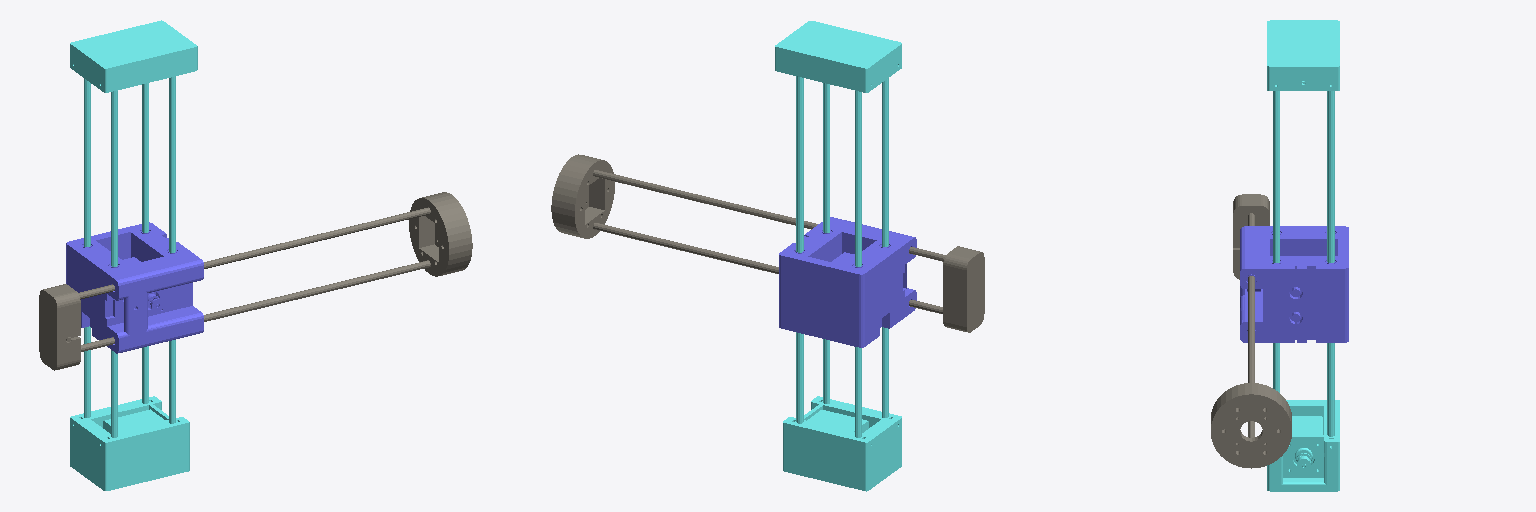
robot.urdf — vertical_cartesian:
<?xml version="1.0" encoding="utf-8"?>
<robot
  name="vertical_cartesian">
  <link
    name="base_link">
    <inertial>
      <origin
        xyz="-0.049116 0.21966 0.033231"
        rpy="0 0 0" />
      <mass
        value="0.79393" />
      <inertia
        ixx="0.0026337"
        ixy="9.5608E-06"
        ixz="-6.8778E-10"
        iyy="0.0011002"
        iyz="-8.2289E-11"
        izz="0.0029366" />
    </inertial>
    <visual>
      <origin
        xyz="0 0 0"
        rpy="0 0 0" />
      <geometry>
        <mesh
          filename="package://vertical_cartesian/meshes/base_link.STL" />
      </geometry>
      <material
        name="">
        <color
          rgba="0.50196 1 1 1" />
      </material>
    </visual>
    <collision>
      <origin
        xyz="0 0 0"
        rpy="0 0 0" />
      <geometry>
        <mesh
          filename="package://vertical_cartesian/meshes/base_link.STL" />
      </geometry>
    </collision>
  </link>
  <link
    name="link1">
    <inertial>
      <origin
        xyz="-0.00031778 0.04532 -0.0030874"
        rpy="0 0 0" />
      <mass
        value="0.82763" />
      <inertia
        ixx="0.0014425"
        ixy="7.8549E-06"
        ixz="2.0529E-05"
        iyy="0.0018363"
        iyz="-1.2126E-06"
        izz="0.0014501" />
    </inertial>
    <visual>
      <origin
        xyz="0 0 0"
        rpy="0 0 0" />
      <geometry>
        <mesh
          filename="package://vertical_cartesian/meshes/link1.STL" />
      </geometry>
      <material
        name="">
        <color
          rgba="0.50196 0.50196 1 1" />
      </material>
    </visual>
    <collision>
      <origin
        xyz="0 0 0"
        rpy="0 0 0" />
      <geometry>
        <mesh
          filename="package://vertical_cartesian/meshes/link1.STL" />
      </geometry>
    </collision>
  </link>
  <joint
    name="joint1"
    type="prismatic">
    <origin
      xyz="-0.049468 -0.043231 0.18035"
      rpy="1.5708 0 0" />
    <parent
      link="base_link" />
    <child
      link="link1" />
    <axis
      xyz="0 1 0" />
    <limit
      lower="-0.1"
      upper="0.21"
      effort="50"
      velocity="2" />
  </joint>
  <link
    name="link2">
    <inertial>
      <origin
        xyz="0.0015684 -0.15332 0.032479"
        rpy="0 0 0" />
      <mass
        value="0.29266" />
      <inertia
        ixx="0.0012177"
        ixy="4.9515E-08"
        ixz="-2.3087E-06"
        iyy="0.00025355"
        iyz="2.1899E-08"
        izz="0.0011674" />
    </inertial>
    <visual>
      <origin
        xyz="0 0 0"
        rpy="0 0 0" />
      <geometry>
        <mesh
          filename="package://vertical_cartesian/meshes/link2.STL" />
      </geometry>
      <material
        name="">
        <color
          rgba="0.56863 0.54902 0.5098 1" />
      </material>
    </visual>
    <collision>
      <origin
        xyz="0 0 0"
        rpy="0 0 0" />
      <geometry>
        <mesh
          filename="package://vertical_cartesian/meshes/link2.STL" />
      </geometry>
    </collision>
  </link>
  <joint
    name="joint2"
    type="prismatic">
    <origin
      xyz="0 0.0125 0.0475"
      rpy="0 1.5236 1.5708" />
    <parent
      link="link1" />
    <child
      link="link2" />
    <axis
      xyz="0 1 0" />
    <limit
      lower="-0.05"
      upper="0.3"
      effort="50"
      velocity="2" />
  </joint>
</robot>

--- What the picture shows (computed from the rendered views, not written in the file) ---
Views: 3 orthographic renders of the robot side by side, from view 1: azimuth 30°, elevation 25°; view 2: azimuth 150°, elevation 25°; view 3: azimuth 270°, elevation 25°.
Model vertical_cartesian with 3 links and 2 joints (2 prismatic), rooted at base_link, posed all joints at 0.
Visible links, largest first — view 1: base_link, link1, link2; view 2: base_link, link1, link2; view 3: base_link, link1, link2.
Boxes of the visible links, x1,y1,x2,y2 form: base_link: (70,20,197,490); link1: (66,222,203,353); link2: (39,192,472,370); base_link: (775,21,901,491); link1: (779,217,916,347); link2: (551,154,984,332); base_link: (1267,20,1339,491); link1: (1240,226,1348,342); link2: (1211,194,1291,468).
Size in the robot's own frame: 0.52 by 0.1523 by 0.52 metres.
Meshes: 3 distinct files referenced, 3 mesh visuals loaded (3 binary STL).